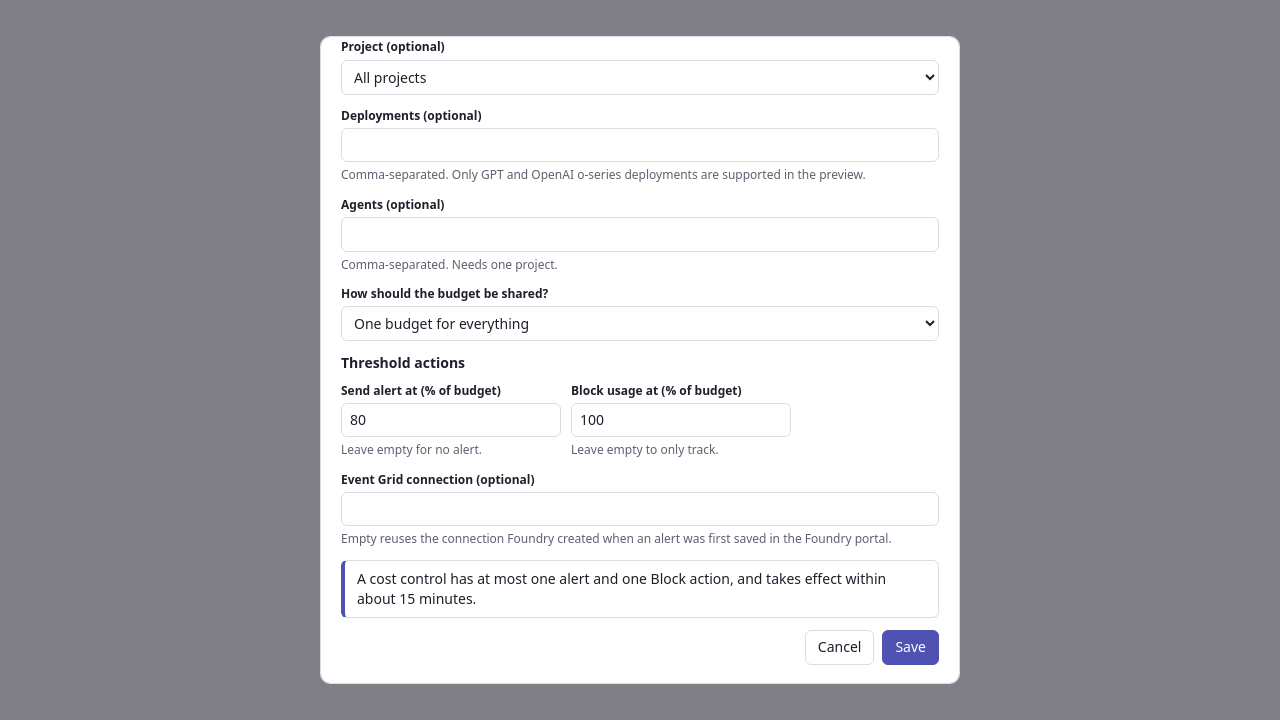
Scenario: CostControlForm › applies the service's rules before calling the API
The width and height of the screenshot is (1280, 720).
(page scrolled)
Click the button "Save".
click(911, 648)  # box 882,630 -> 939,665
(page scrolled)
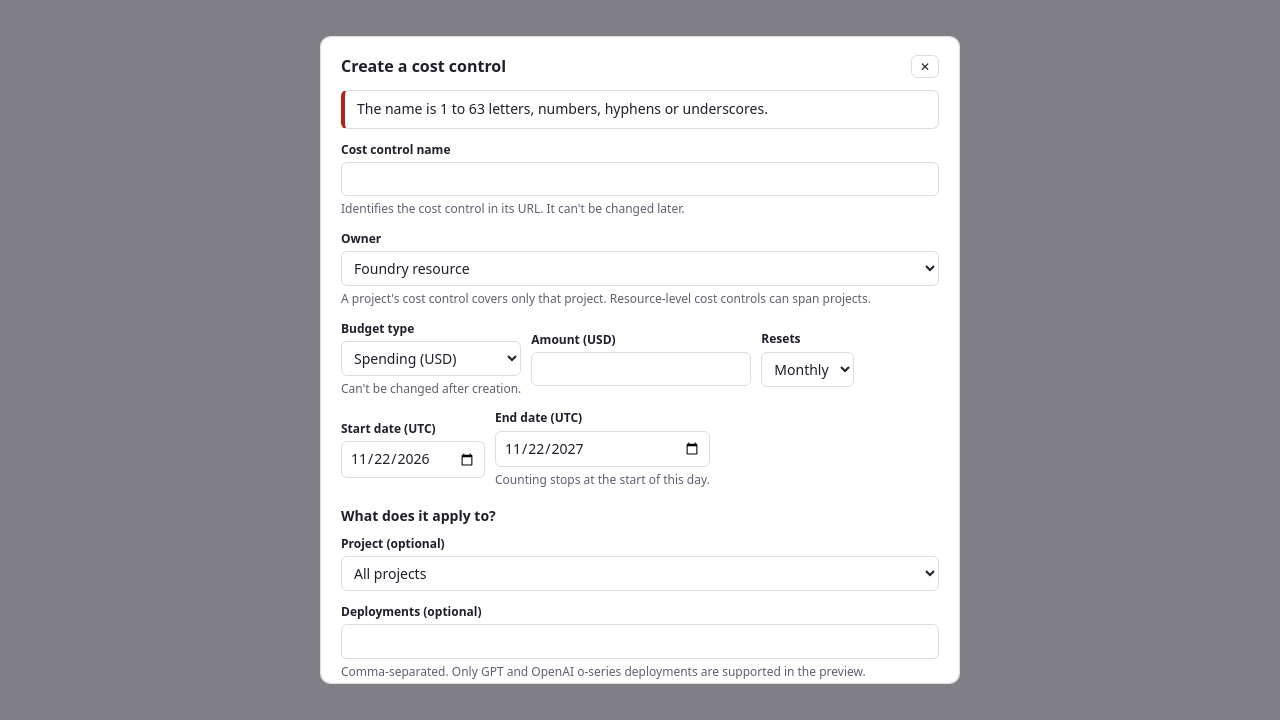
Expected: the message shows "1 to 63 letters", 357,99 -> 768,118
Type "cap-1" into the field labelled "Cost control name".
click(640, 179); type("cap-1")  # box 341,162 -> 939,196
(page scrolled)
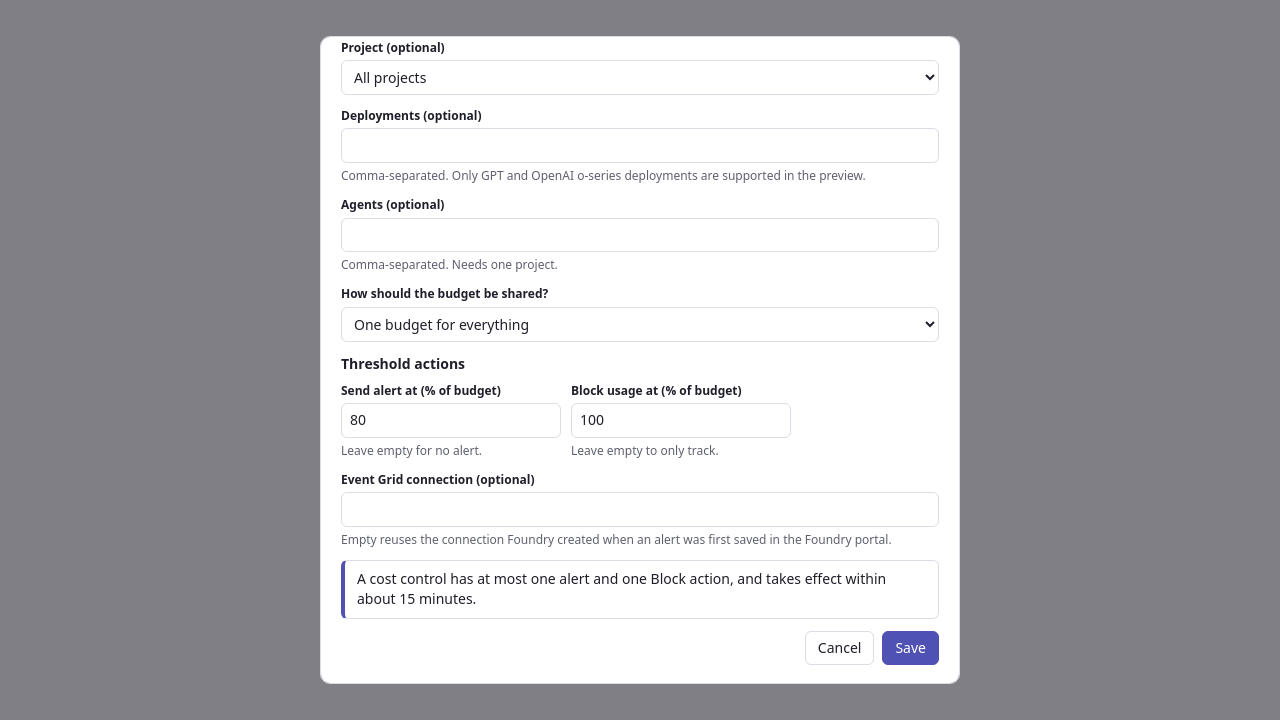
Click the button "Save".
click(911, 648)  # box 882,631 -> 939,665
(page scrolled)
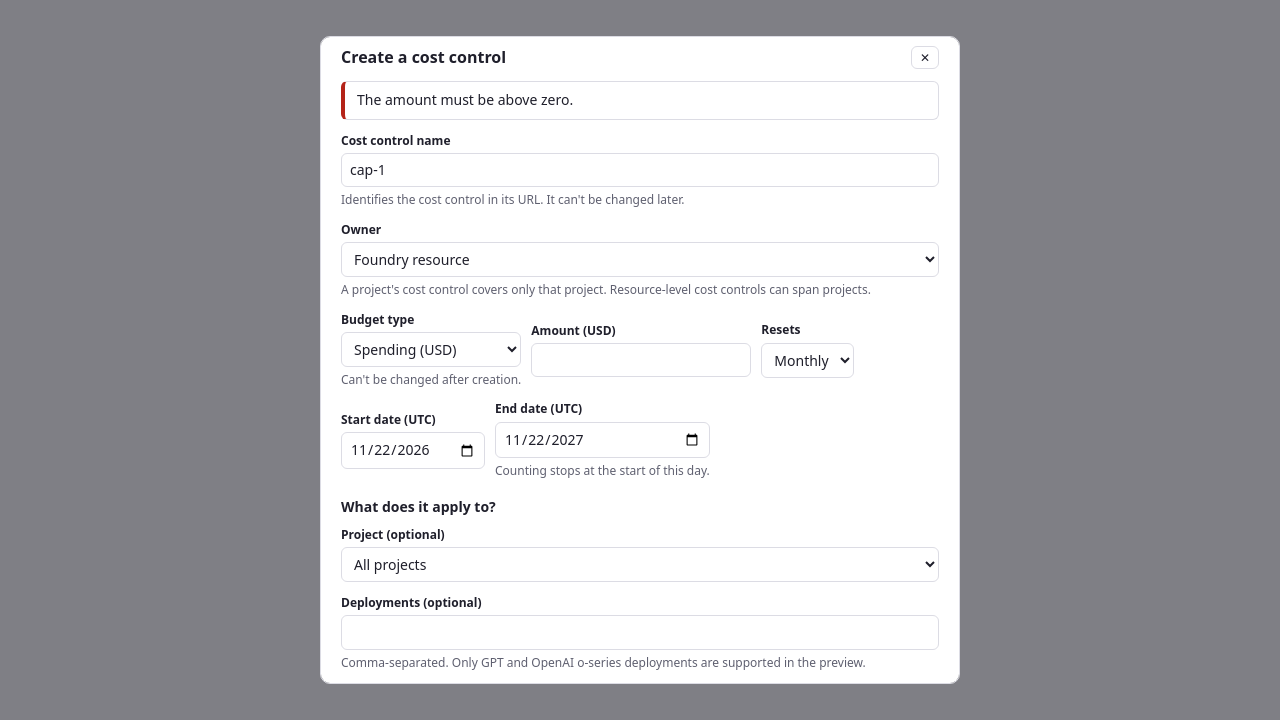
Expected: the message shows "above zero", 357,90 -> 573,109
Type "500" into the field labelled "Amount (USD)".
click(641, 360); type("500")  # box 531,343 -> 751,377
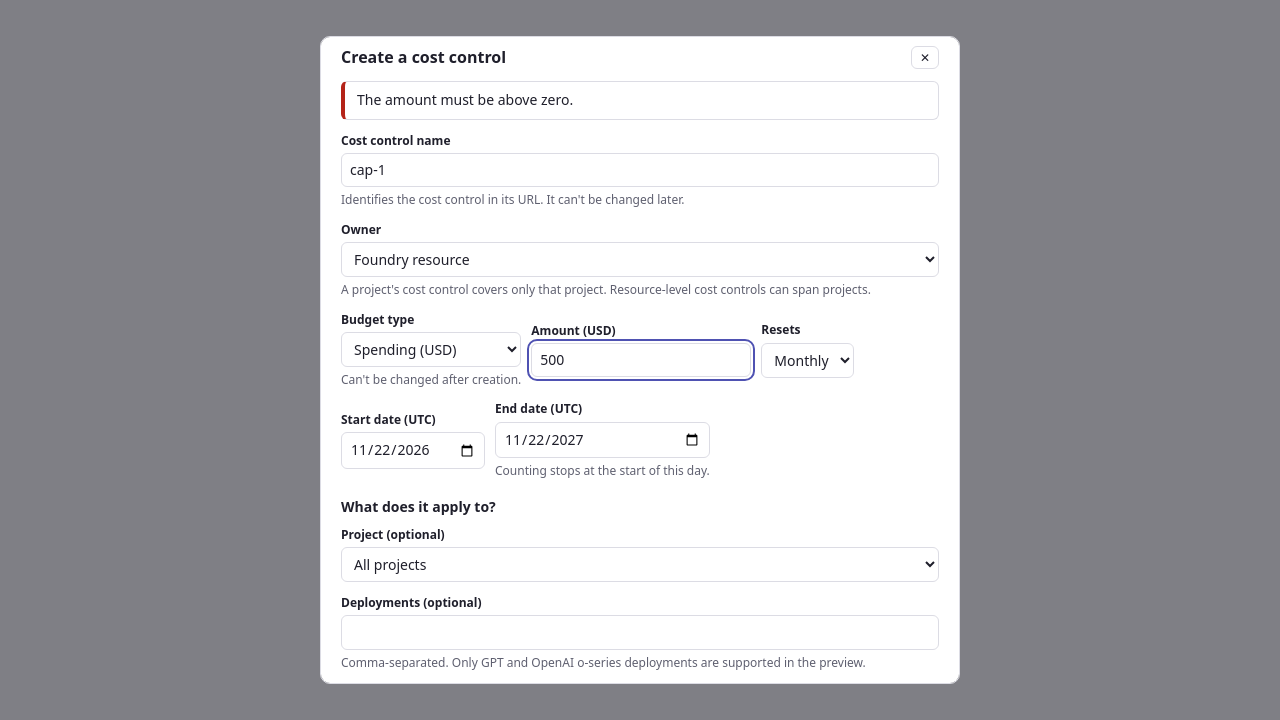
Clear the date field labelled "End date (UTC)" at (602, 440), box 495,422 -> 710,458
(page scrolled)
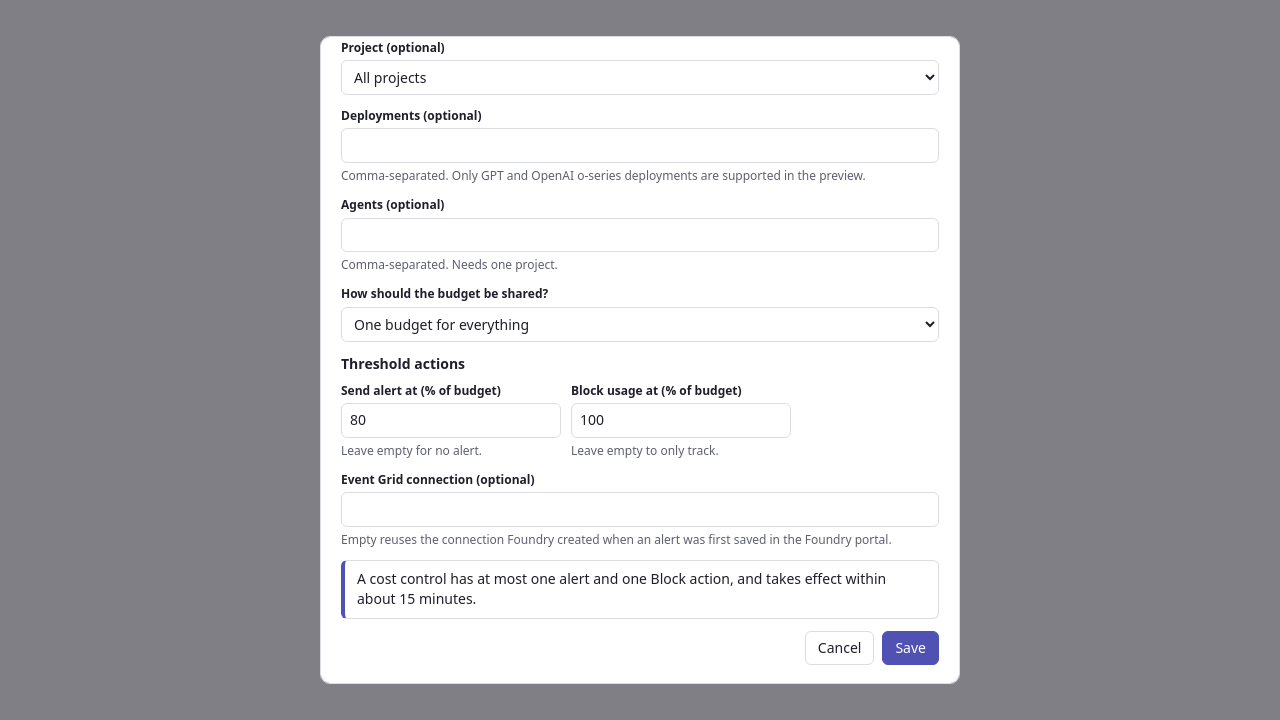
Click the button "Save".
click(911, 648)  # box 882,631 -> 939,665
(page scrolled)
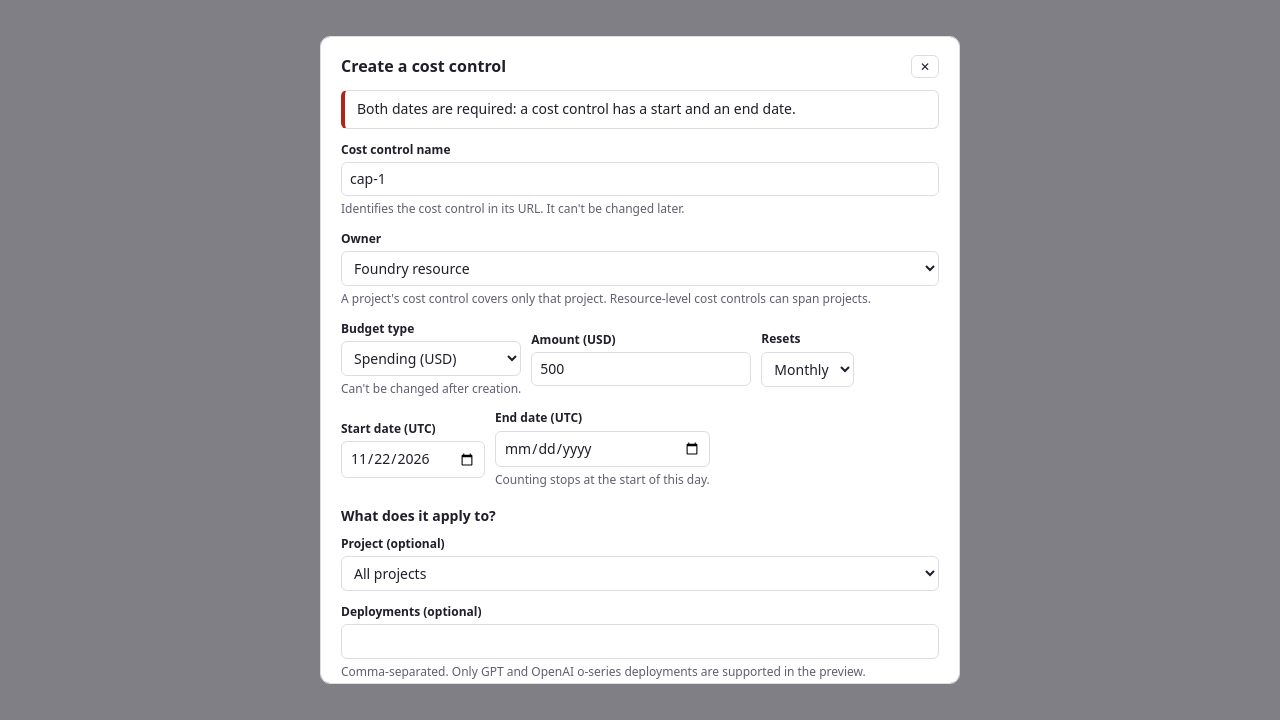
Expected: the message shows "Both dates are required", 357,99 -> 796,118
